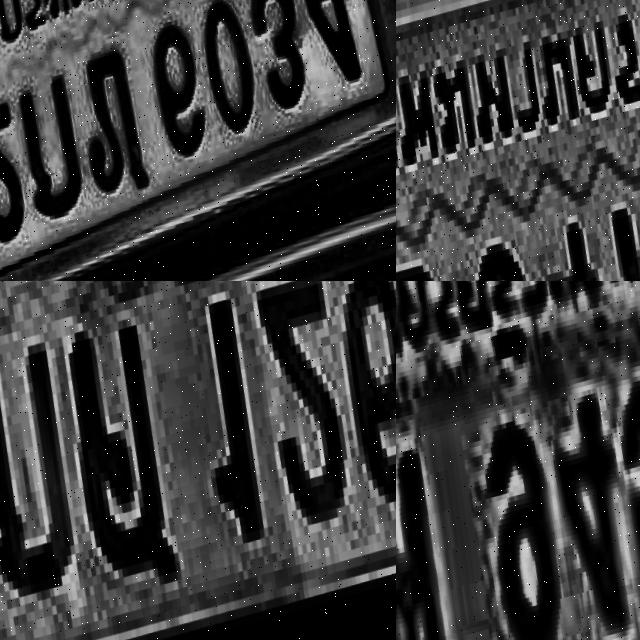license-plate: (0, 281, 396, 640), (0, 0, 396, 281), (396, 281, 640, 640), (396, 0, 640, 281)
